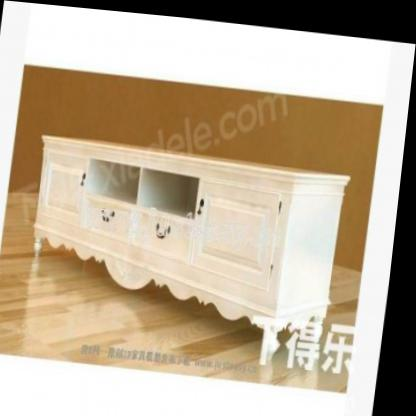TV stand: (34, 124, 353, 360)
